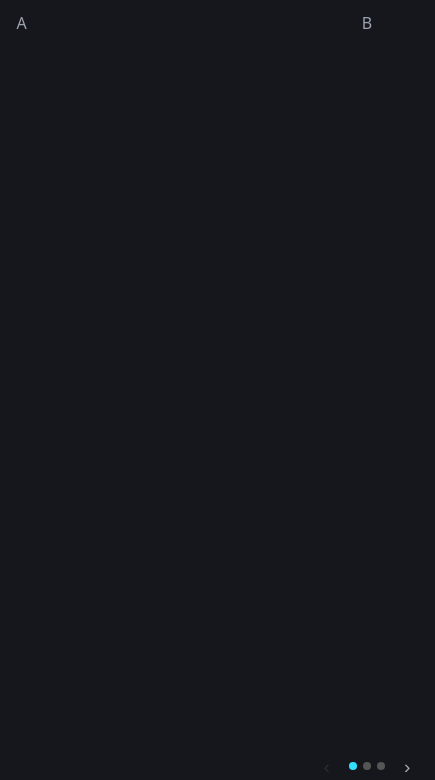
Test: OptionGrid › goes back to the previous page when the prev button is clicked
Click the button named "Next page" at (407, 766), box [396,753,418,779]
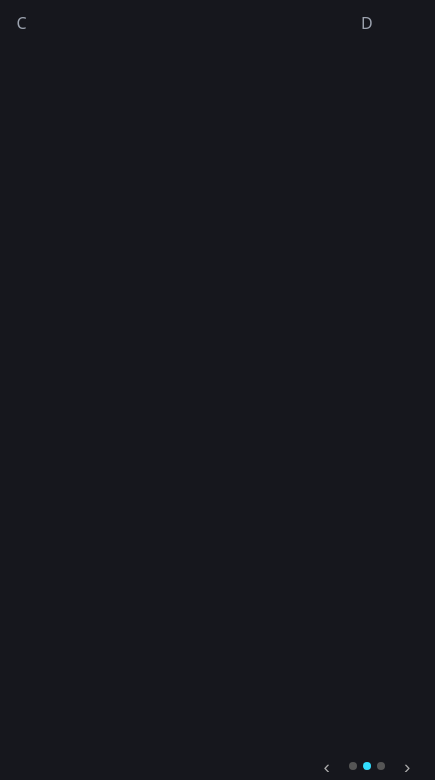
Expected: the text with test id "card-2" reads "C", [16,12,27,34]
Click the button named "Previous page" at (327, 766), box [316,753,338,779]
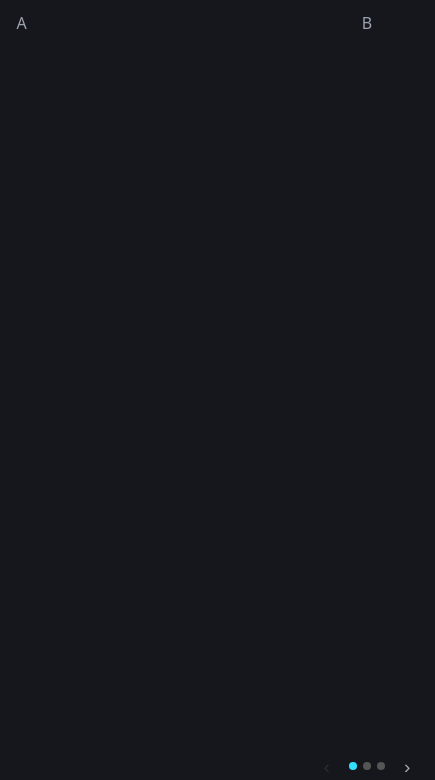
Expected: the text with test id "card-0" reads "A", [16,12,27,34]
